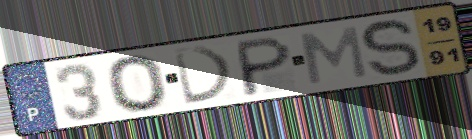3: (54, 61, 104, 123)
D: (170, 44, 237, 107)
M: (297, 24, 370, 87)
O: (103, 53, 172, 114)
P: (236, 34, 295, 99)
S: (358, 17, 424, 80)
